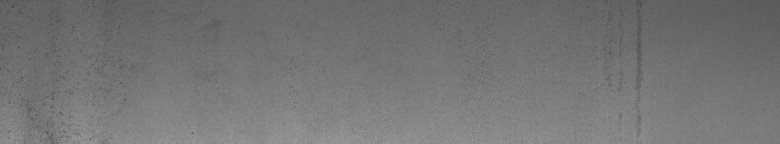ib: (4, 4, 80, 136)
